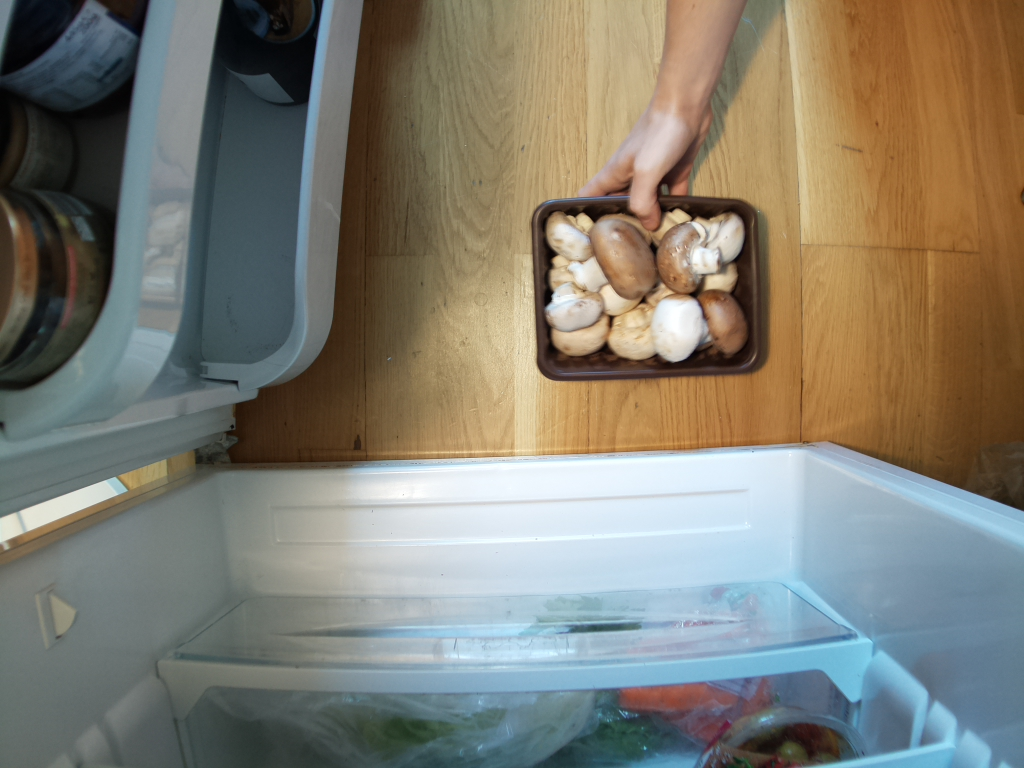mushrooms: (527, 195, 769, 383)
